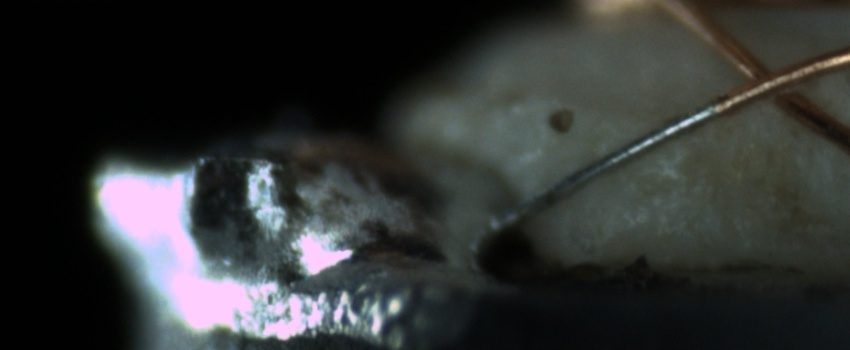CL: (720, 48, 820, 116)
TS: (492, 103, 717, 235)
